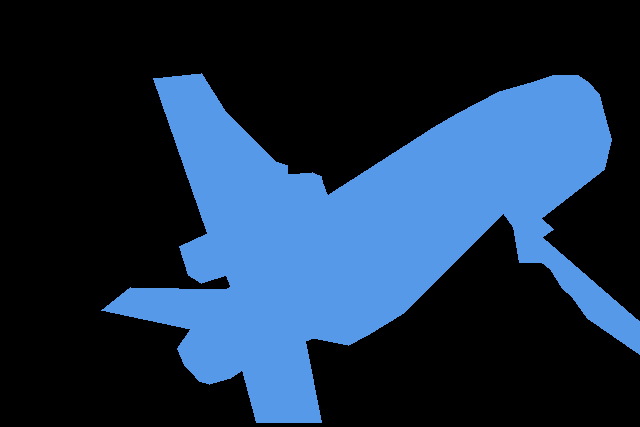Airplane: (101, 73, 640, 423)
